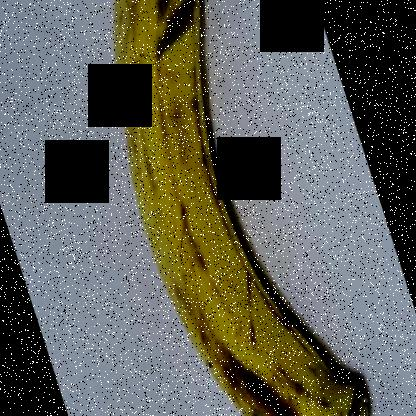overripe: (104, 0, 378, 415)
